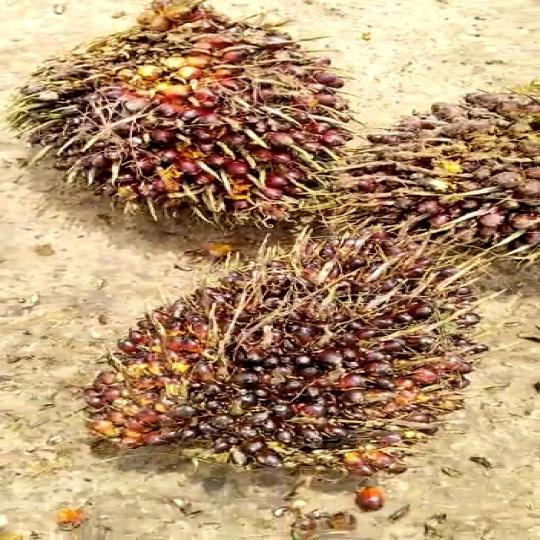kurang masak: (113, 241, 477, 489), (7, 6, 352, 249), (346, 75, 540, 257)
